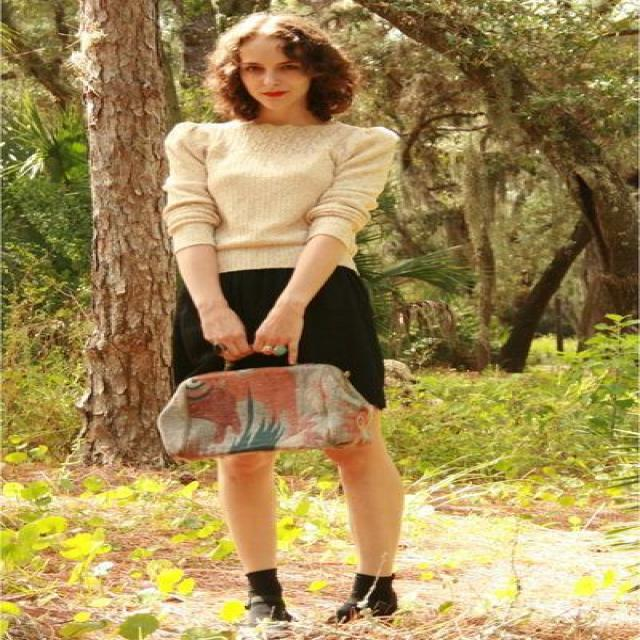bag: (157, 365, 381, 488)
jacket: (162, 119, 402, 270)
shoe: (246, 568, 400, 623)
skirt: (171, 267, 387, 408)
